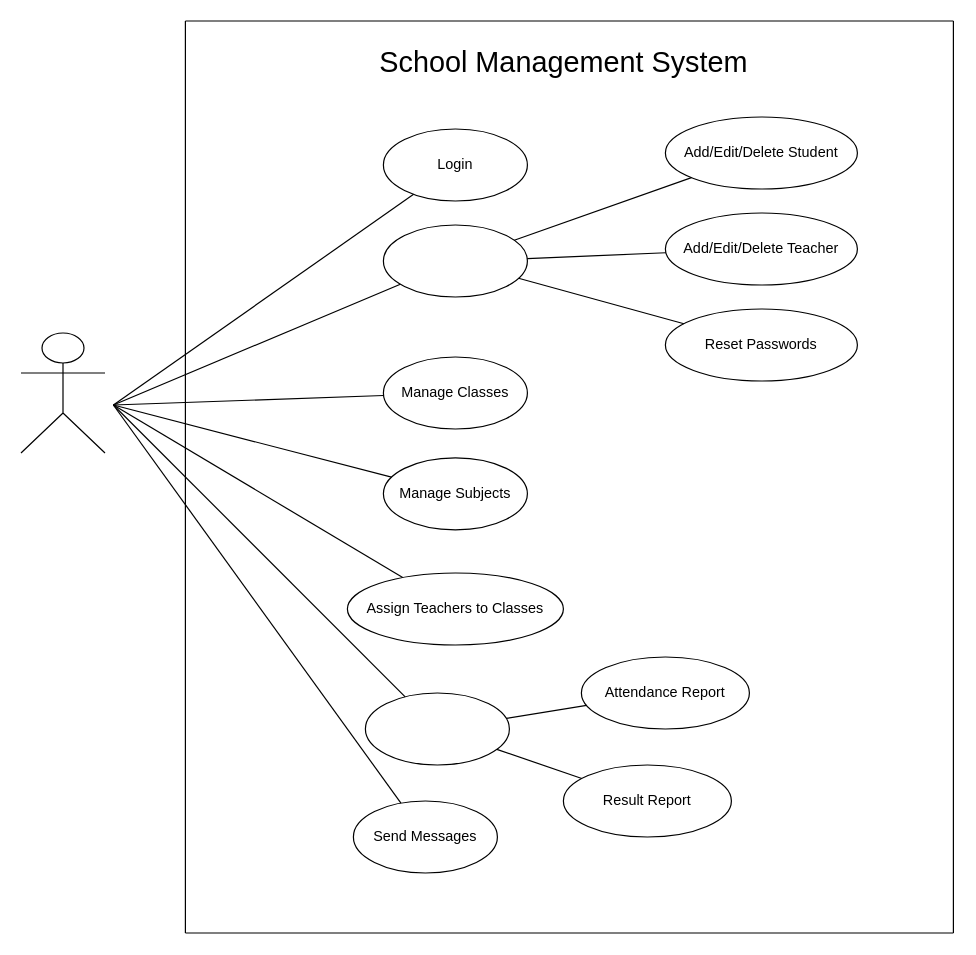
Some shapes in this 976 by 955 pixel diagram are drawn without their labels. Each missing label, with the centre of its shape:
"Admin" belongs at (x=62, y=392).
"Manage Users" belongs at (x=454, y=260).
"View Reports" belongs at (x=436, y=728).
